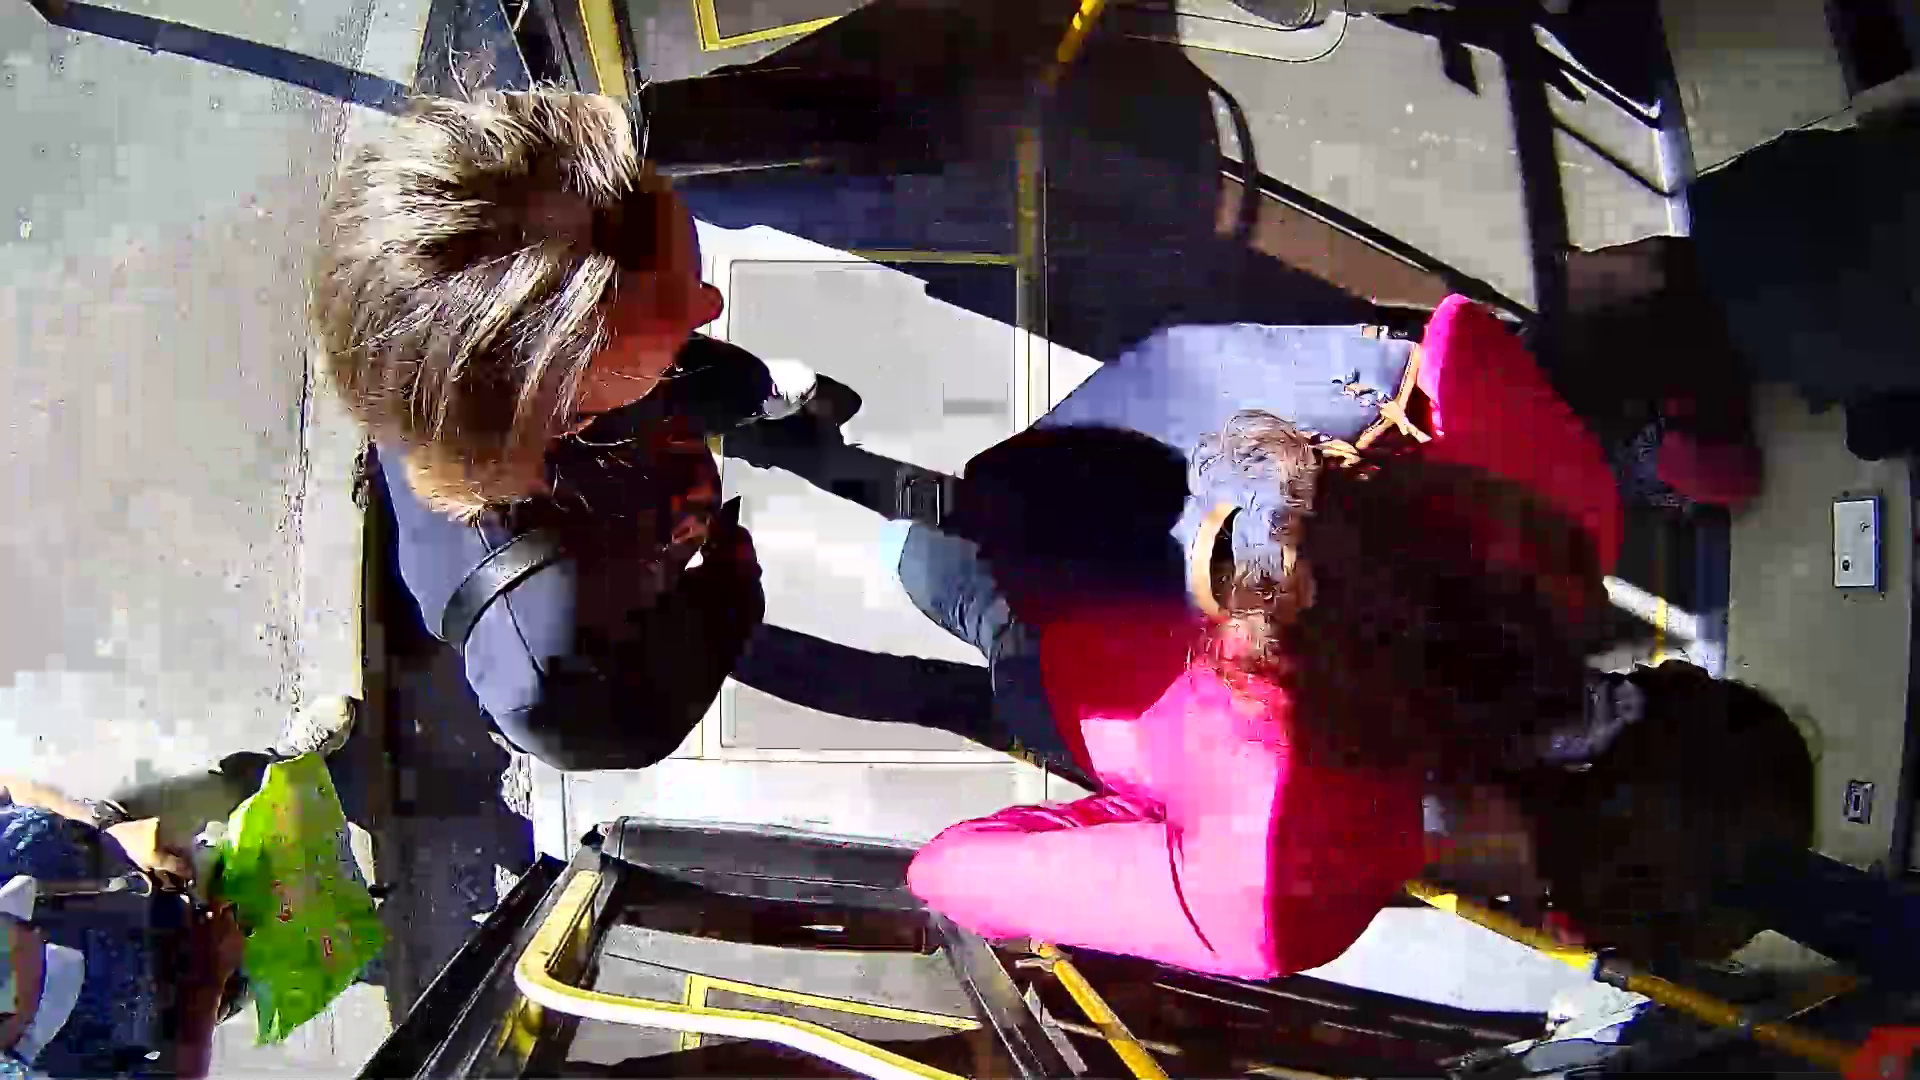person: (920, 227, 1866, 1006), (304, 72, 932, 768)
